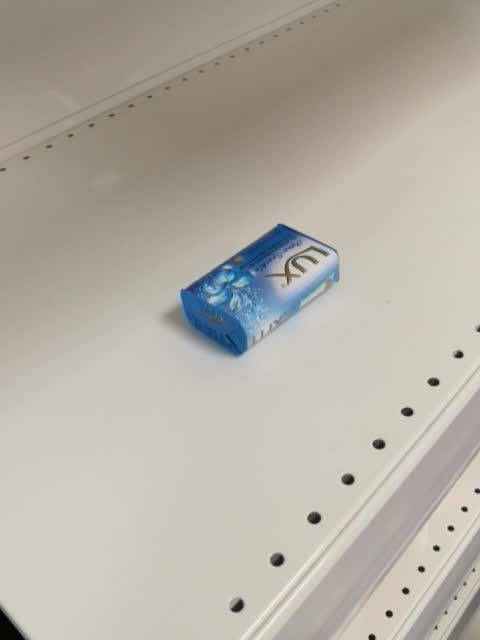soap: (179, 222, 342, 357)
